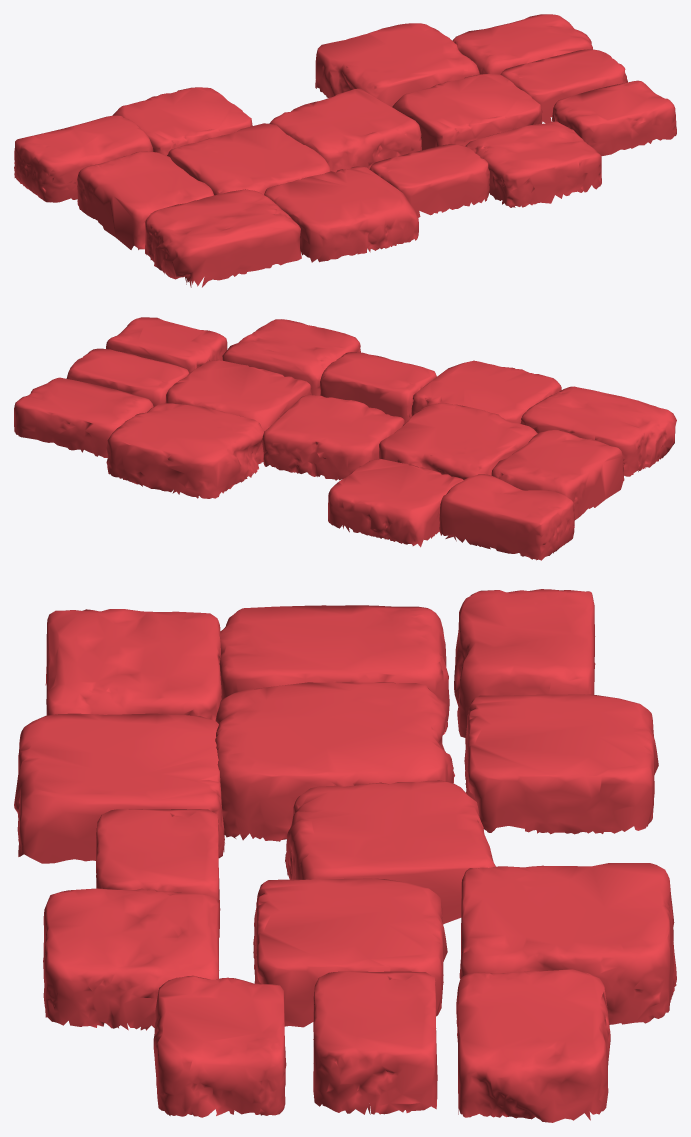
The model's file is SM_Ground_A.fbx.
3 renders of one model, top to bottom at view 1: azimuth 30°, elevation 25°; view 2: azimuth 150°, elevation 25°; view 3: azimuth 270°, elevation 25°, orthographic. The views are drawn at different scales.
Parts seen in each view (by area): view 1: SM_Ground_LOD0; view 2: SM_Ground_LOD0; view 3: SM_Ground_LOD0.
Part boxes in pixels (x1,y1,x2,y2): SM_Ground_LOD0: (14, 14, 676, 287); SM_Ground_LOD0: (14, 317, 676, 560); SM_Ground_LOD0: (14, 589, 676, 1122).
Size of what is drawn, in the model's own units: 378 by 32.94 by 226.
